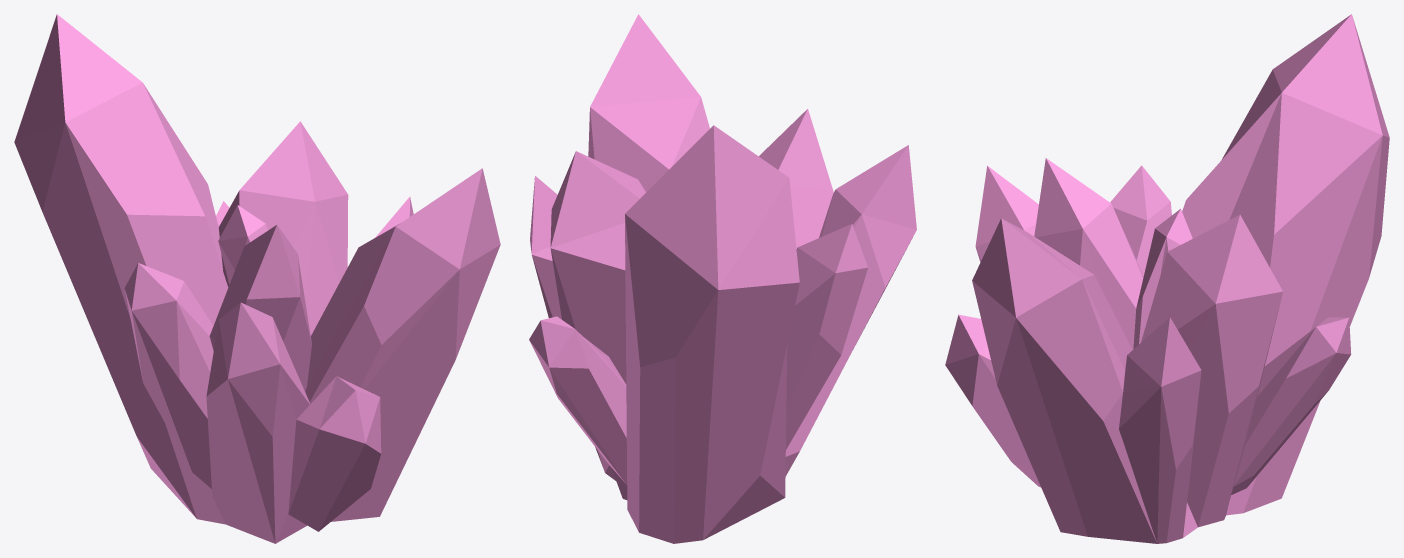
File: Crystal.fbx
3 views of the same model, side by side, from view 1: azimuth 30°, elevation 25°; view 2: azimuth 150°, elevation 25°; view 3: azimuth 270°, elevation 25° (orthographic). The views are drawn at different scales.
Parts seen in each view (by area): view 1: Cube.005; view 2: Cube.005; view 3: Cube.005.
Boxes of the visible parts, x1,y1,x2,y2 form: Cube.005: (14,14,500,543); Cube.005: (529,14,916,543); Cube.005: (945,14,1389,543).
Size of the model in its own units: 41.63 by 54.09 by 50.29.
